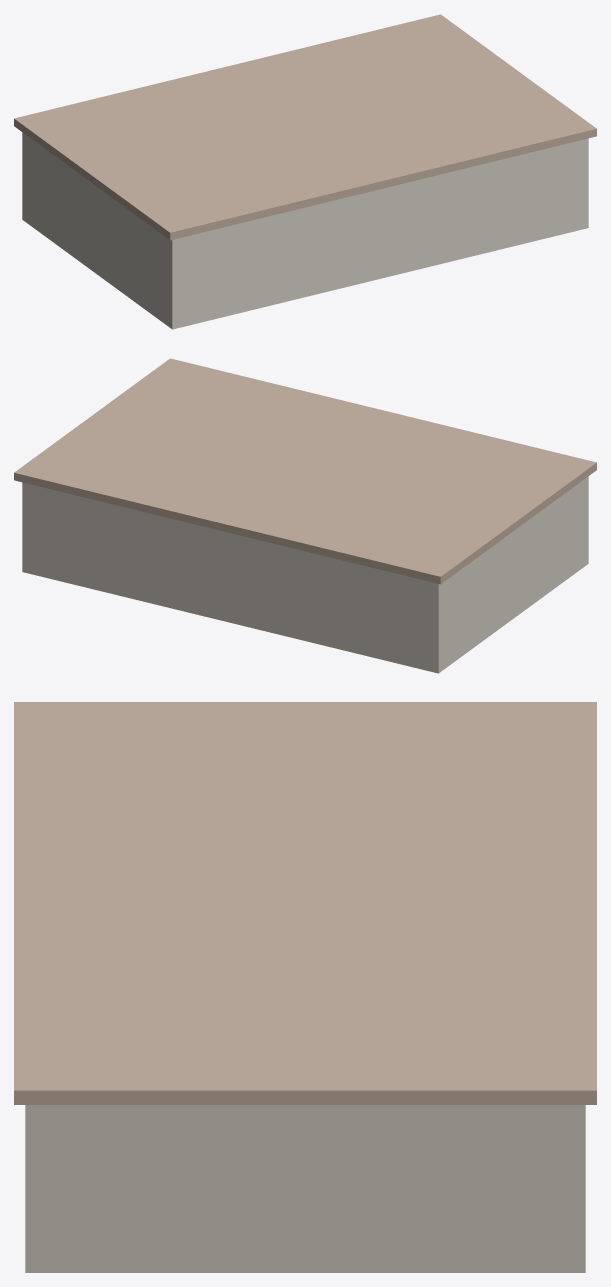
Rendered from clubhouse.glb.
3 renders of one model, top to bottom at view 1: azimuth 30°, elevation 25°; view 2: azimuth 150°, elevation 25°; view 3: azimuth 270°, elevation 25°, orthographic. The views are drawn at different scales.
Visible parts, largest first — view 1: spatial-root; view 2: spatial-root; view 3: spatial-root.
Part boxes in pixels (x1,y1,x2,y2): spatial-root: [14, 14, 596, 329]; spatial-root: [14, 358, 596, 673]; spatial-root: [14, 702, 596, 1272].
Size of the model in its own units: 16.4 by 3.68 by 10.4.
